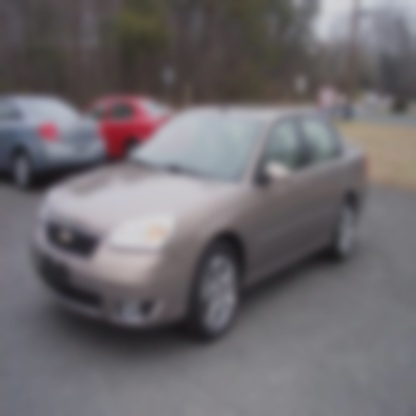Vehicle: (23, 79, 383, 415)
